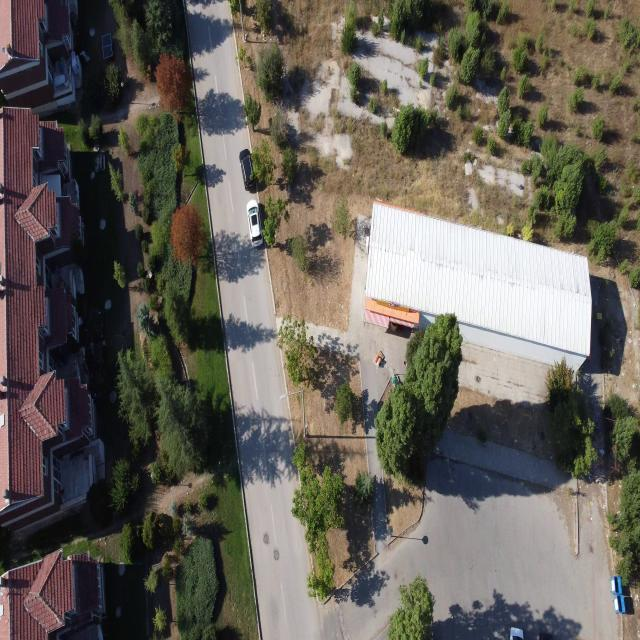vehicle: (246, 198, 264, 248), (239, 148, 256, 192), (509, 626, 525, 640)
